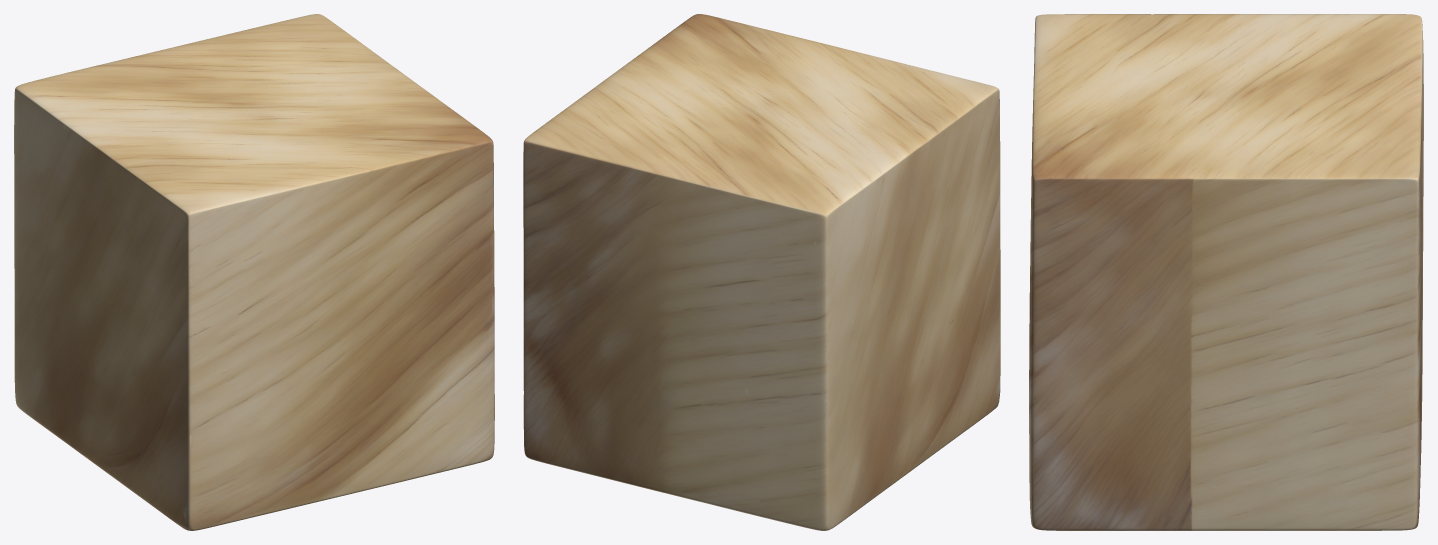
File: wood_box_1.obj
3 views of the same model, side by side, from view 1: azimuth 30°, elevation 25°; view 2: azimuth 150°, elevation 25°; view 3: azimuth 270°, elevation 25° (orthographic). The views are drawn at different scales.
Bounding box in the file's own units: 0.0567 × 0.0568 × 0.0567.
1 material, 1 textured.
